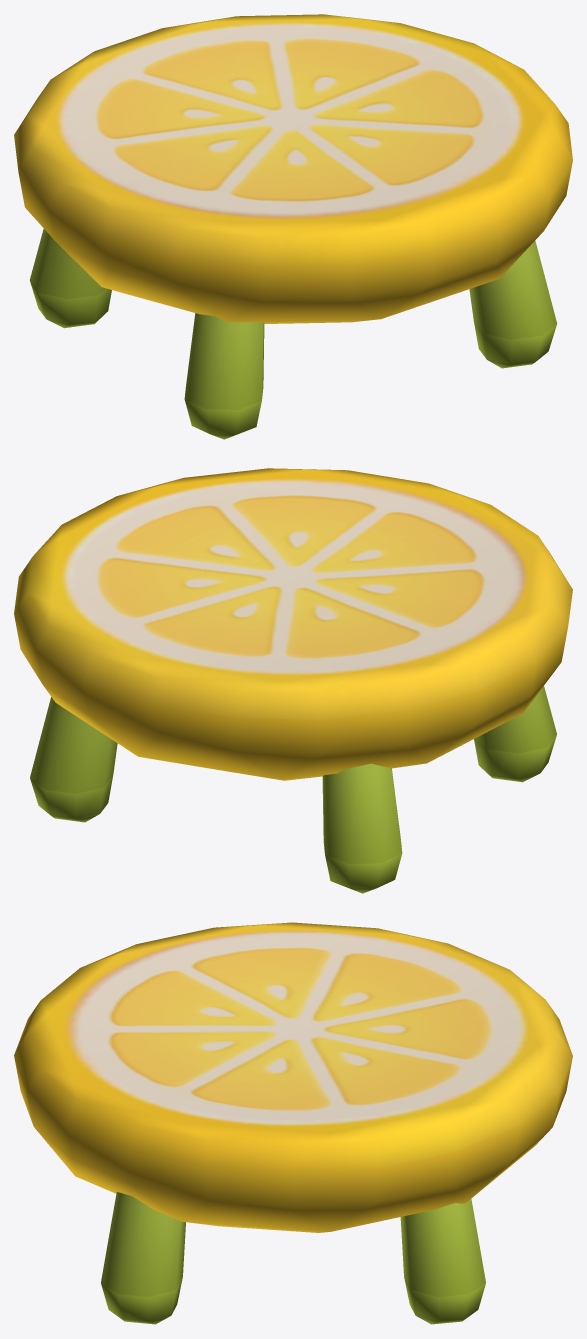
File: Homestead_nm_1.fbx
The picture shows the model from 3 angles, top to bottom: view 1: azimuth 30°, elevation 25°; view 2: azimuth 150°, elevation 25°; view 3: azimuth 270°, elevation 25°; orthographic projection.
Visible parts, largest first — view 1: Homestead_nm_1; view 2: Homestead_nm_1; view 3: Homestead_nm_1.
Boxes of the visible parts, <box> form: Homestead_nm_1: <box>14,14,572,439</box>; Homestead_nm_1: <box>14,468,572,893</box>; Homestead_nm_1: <box>14,922,572,1324</box>.
Bounding box in the file's own units: 203 × 86.93 × 203.
